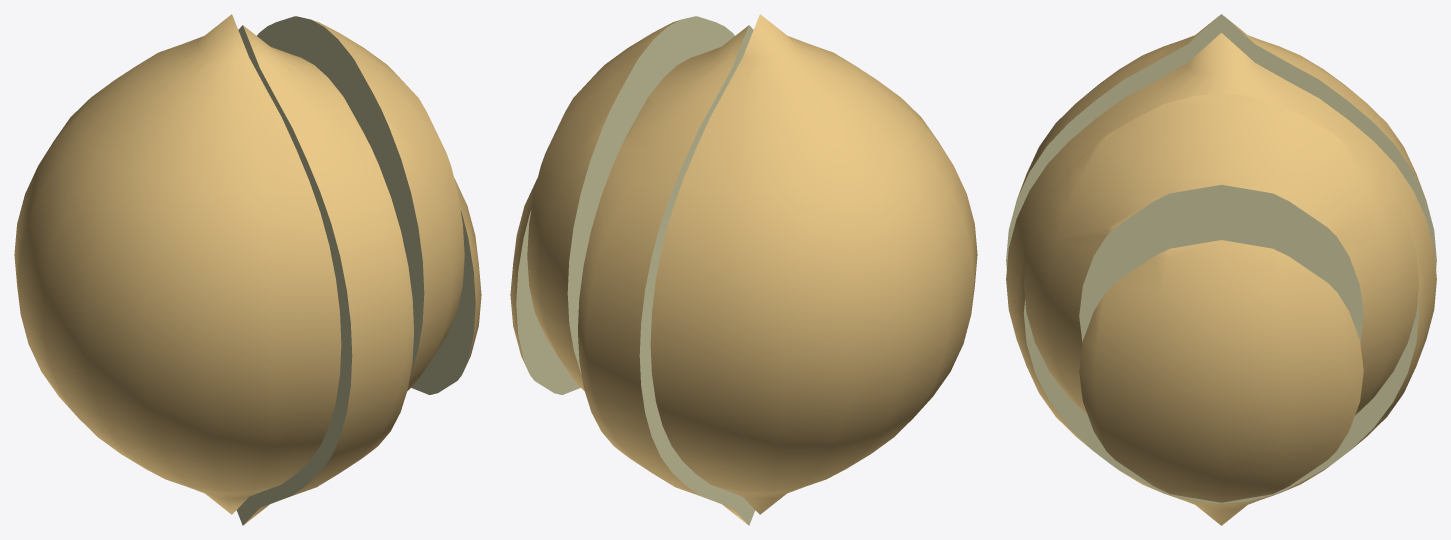
The model's file is 4of6Onion.fbx.
3 views of the same model, side by side, from view 1: azimuth 30°, elevation 25°; view 2: azimuth 150°, elevation 25°; view 3: azimuth 270°, elevation 25° (orthographic).
Parts seen in each view (by area): view 1: pSphere1; view 2: pSphere1; view 3: pSphere1.
Boxes of the visible parts, left/top/right/bottom form: pSphere1: left=14, top=14, right=481, bottom=525; pSphere1: left=510, top=14, right=977, bottom=525; pSphere1: left=1006, top=14, right=1436, bottom=525.
Bounding box in the file's own units: 2.17 × 2.6 × 2.
